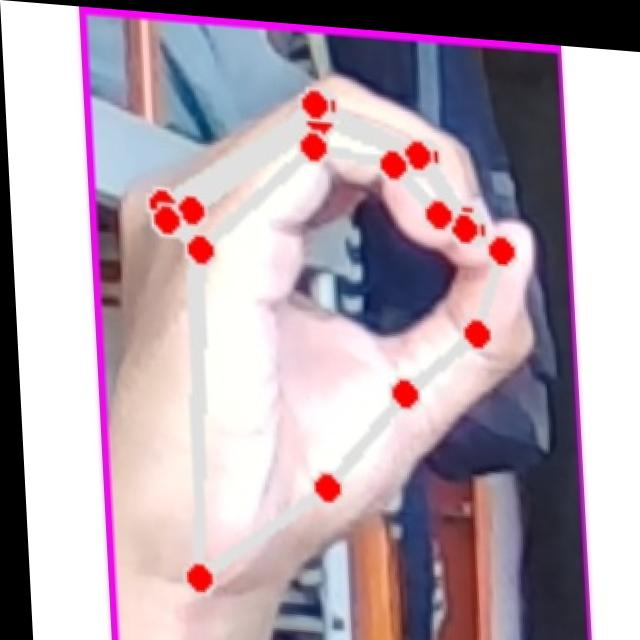O: (100, 39, 555, 640)
